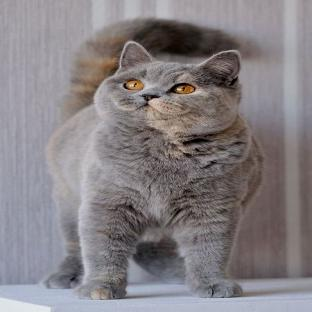Animal: (43, 19, 263, 300)
